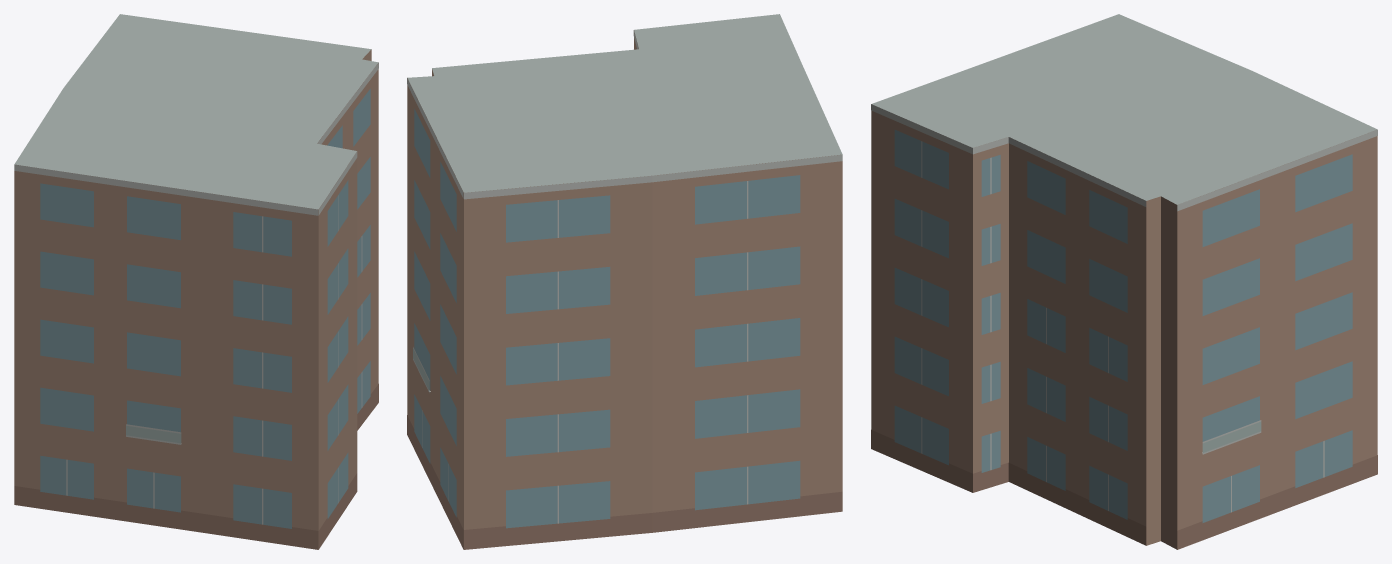
Rendered from survey-upis-32587796.glb.
3 views of the same model, side by side, from view 1: azimuth 30°, elevation 25°; view 2: azimuth 150°, elevation 25°; view 3: azimuth 270°, elevation 25° (orthographic). The views are drawn at different scales.
Visible parts, largest first — view 1: survey-upis-32587796.tmp; view 2: survey-upis-32587796.tmp; view 3: survey-upis-32587796.tmp.
Part boxes in pixels (x1,y1,x2,y2): survey-upis-32587796.tmp: [14, 14, 378, 549]; survey-upis-32587796.tmp: [407, 14, 842, 549]; survey-upis-32587796.tmp: [871, 14, 1377, 549].
Bounding box in the file's own units: 15.55 × 13.09 × 17.43.
